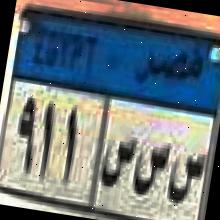1: (32, 100, 62, 179), (54, 105, 84, 183)
9: (10, 91, 44, 172)
seen: (131, 139, 172, 202), (164, 148, 206, 209), (97, 135, 138, 195)
